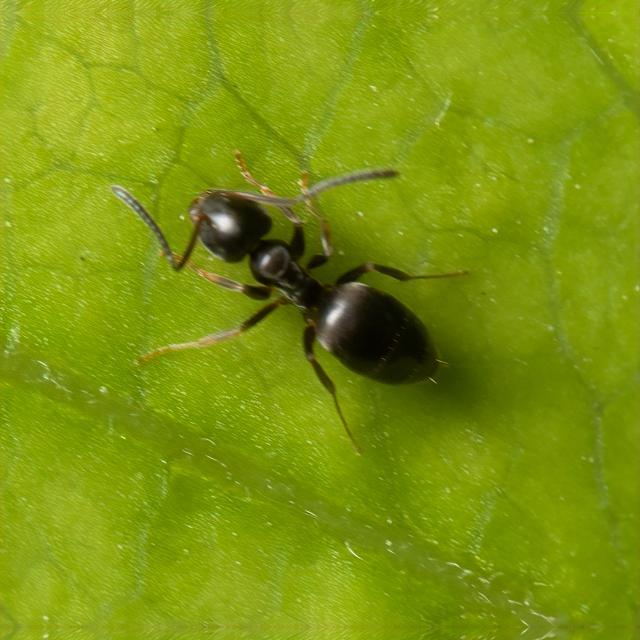Tapinoma: (134, 140, 452, 412)
